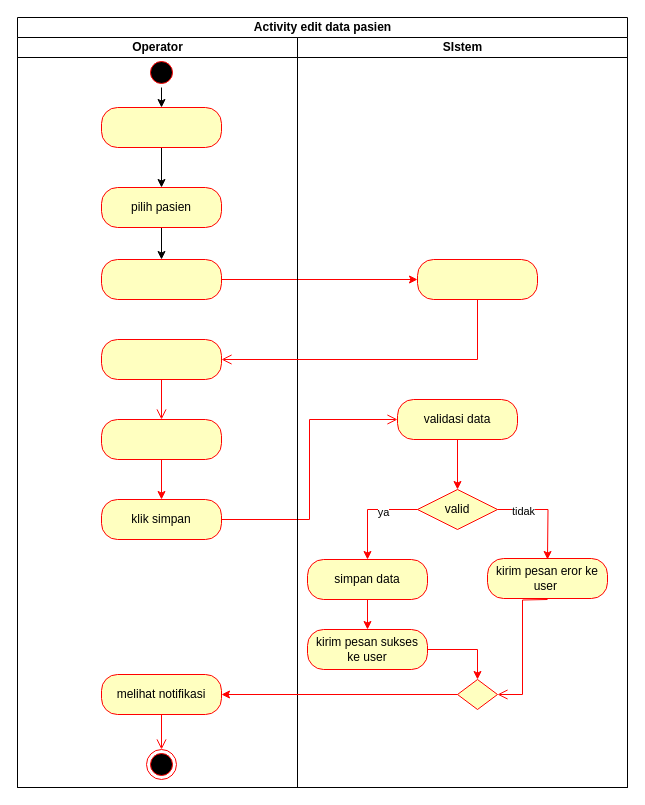
The diagram is 645 pixels wide and 805 high, and some of its shapes have lost their labels. Here are the shapes that lost their labels. From the top down, the centre of each, then its label:
At [161,127]: "masuk halaman pasien".
At [161,279]: "klik tombol edit data pasien".
At [477,279]: "kirim form edit data".
At [161,359]: "form dibuka".
At [161,439]: "isi form".
